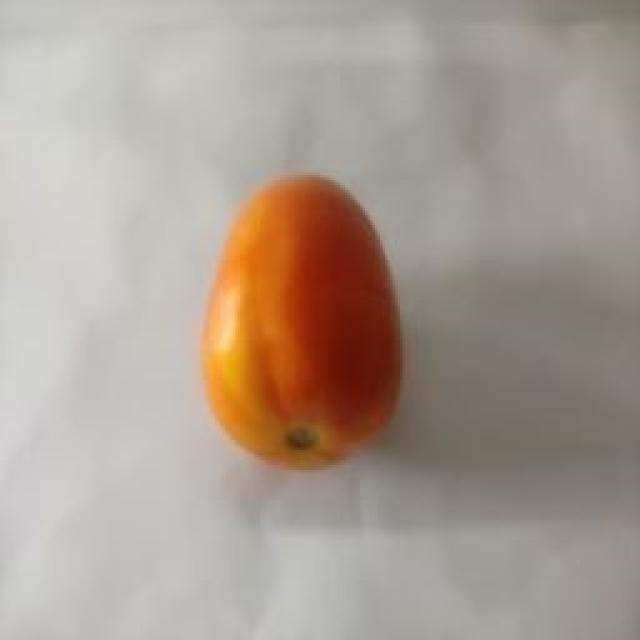Ripe: (189, 168, 409, 480)
